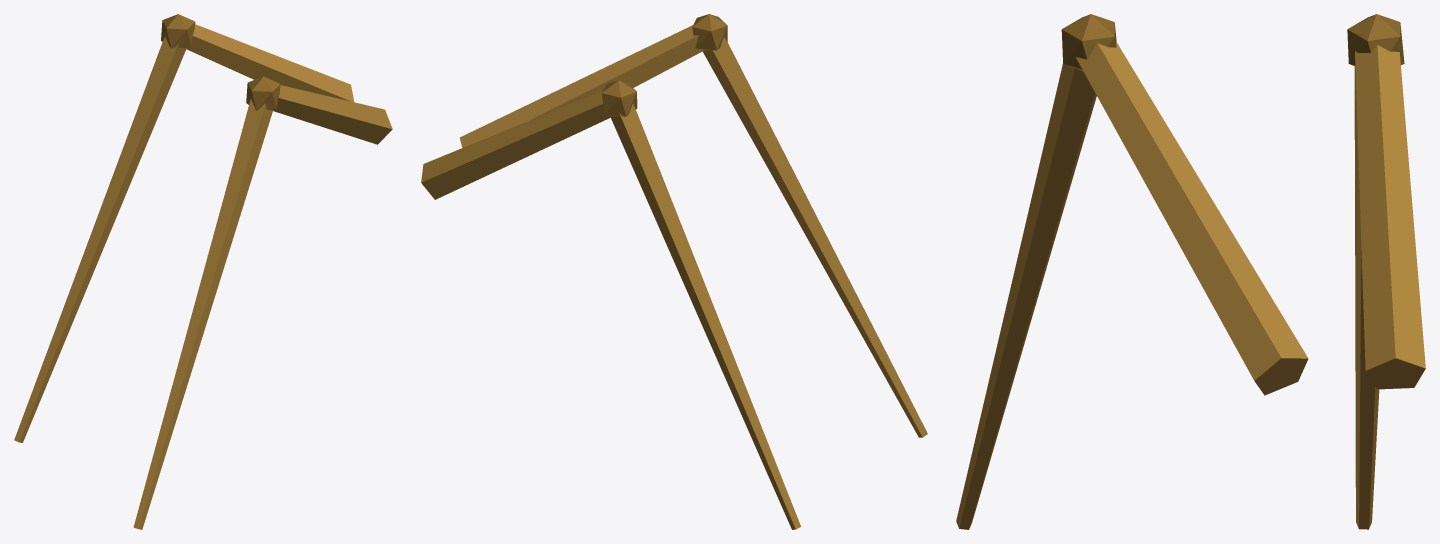
Rendered from spider_3_leg_fr.glb.
3 renders of one model, left to right at view 1: azimuth 30°, elevation 25°; view 2: azimuth 150°, elevation 25°; view 3: azimuth 270°, elevation 25°, orthographic. The views are drawn at different scales.
Visible parts, largest first — view 1: spider_3_leg_fr; view 2: spider_3_leg_fr; view 3: spider_3_leg_fr.
Boxes of the visible parts, x1,y1,x2,y2 form: spider_3_leg_fr: [14, 14, 392, 529]; spider_3_leg_fr: [421, 14, 927, 529]; spider_3_leg_fr: [956, 14, 1425, 529].
Size of the model in its own units: 0.6335 by 0.6755 by 0.444.
